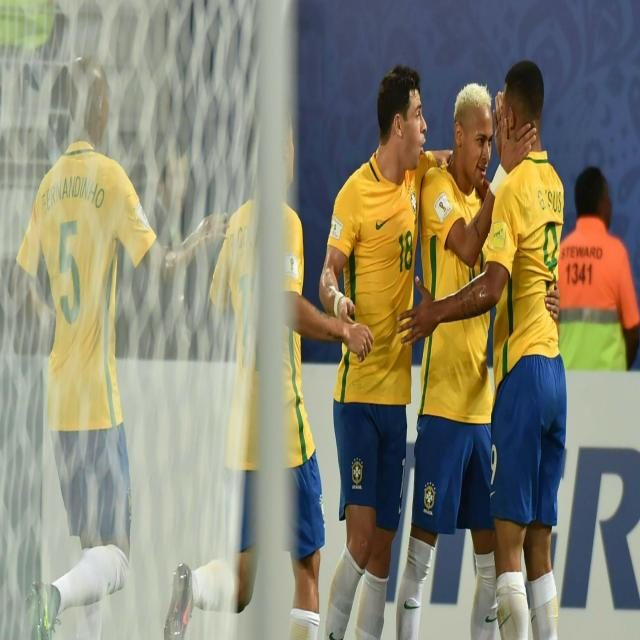body: (9, 45, 233, 640), (162, 96, 376, 640), (398, 56, 570, 640), (394, 83, 540, 640), (318, 63, 456, 640), (552, 163, 640, 370)
